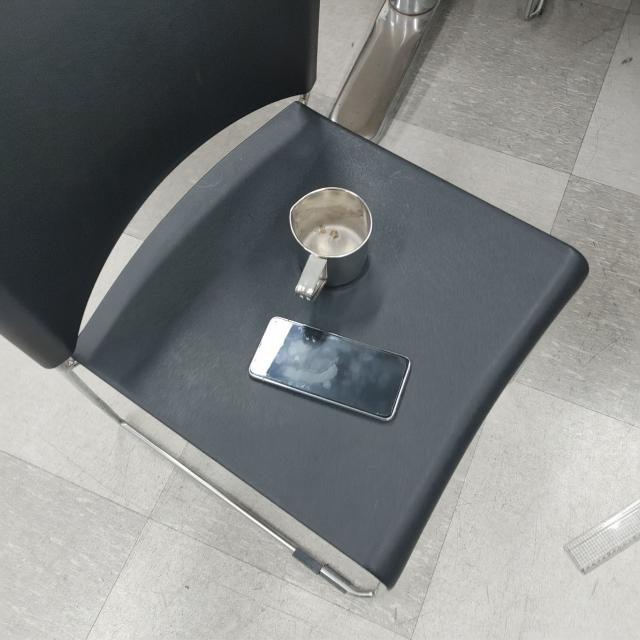cup: (290, 187, 374, 305)
phone: (247, 312, 414, 424)
